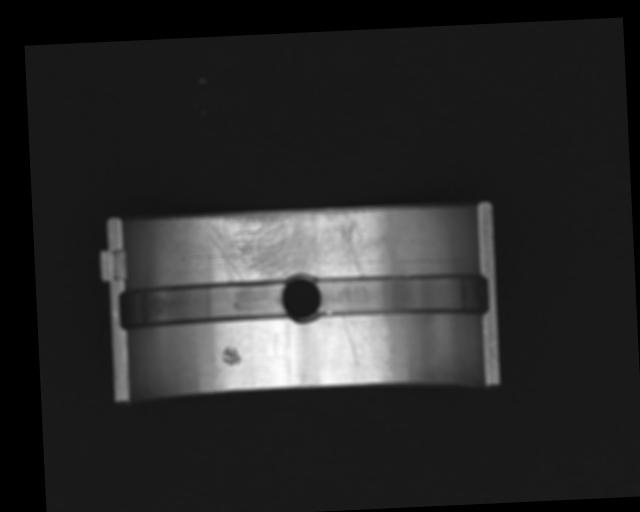bruise: (220, 344, 242, 367)
gap: (315, 271, 488, 320), (118, 280, 288, 327)
hole: (279, 274, 323, 323)
nick: (340, 314, 358, 367)
scratch: (209, 207, 383, 284)
